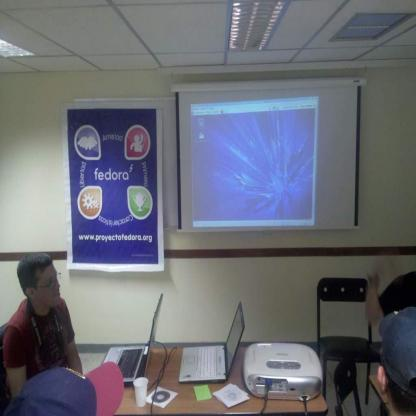board: (182, 300, 247, 386), (103, 293, 162, 385)
